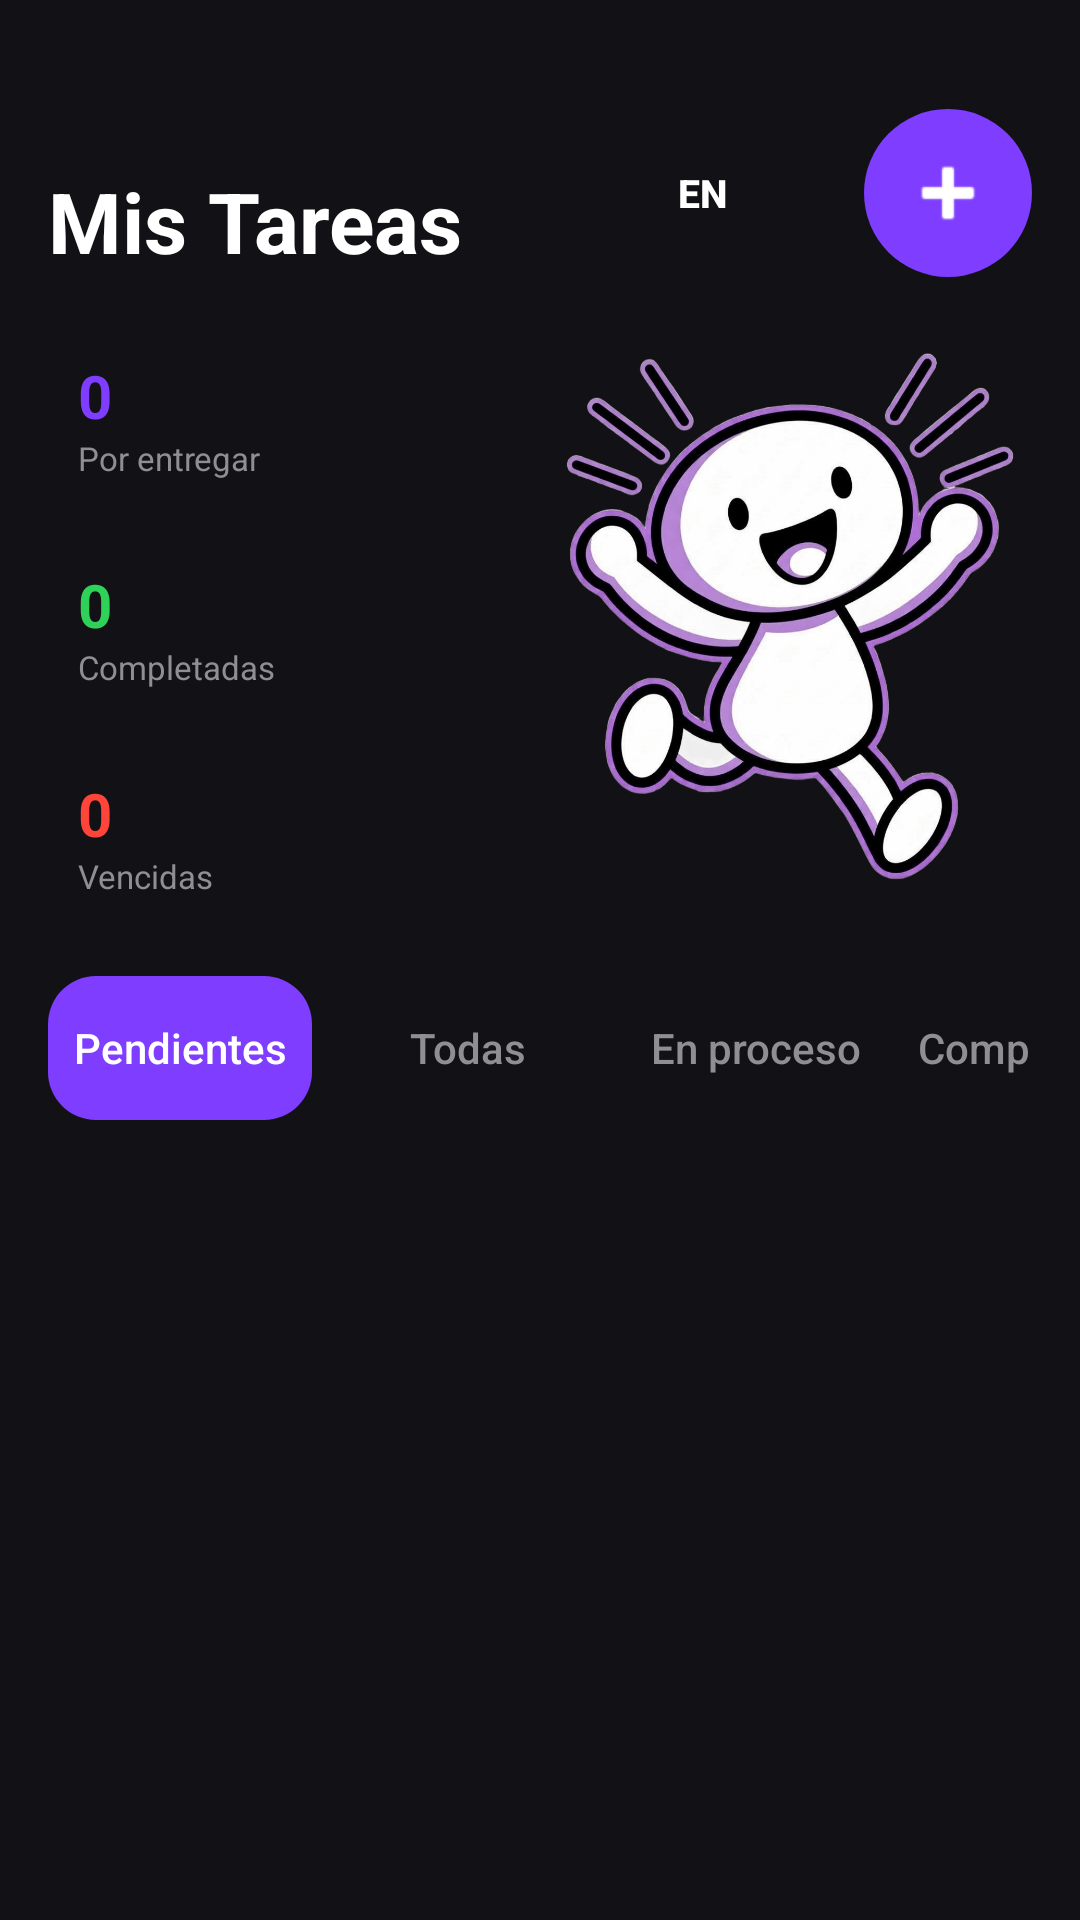

Locate icon controls on the screen. Image size 1080px×1920px, boxes as (x1, y1, x2, y2).
Agregar nueva tarea: (864, 109, 1032, 277)
